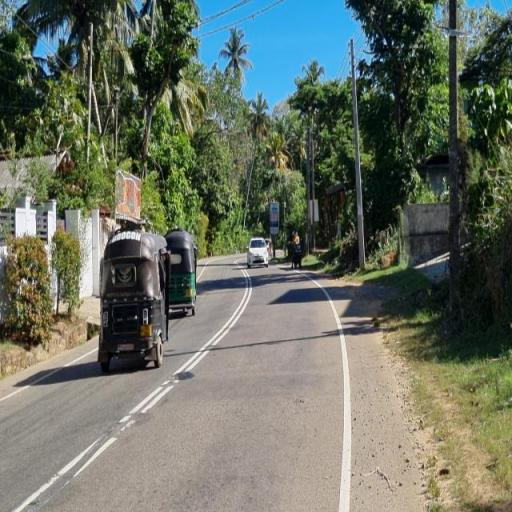double_white_line: (112, 268, 253, 434)
